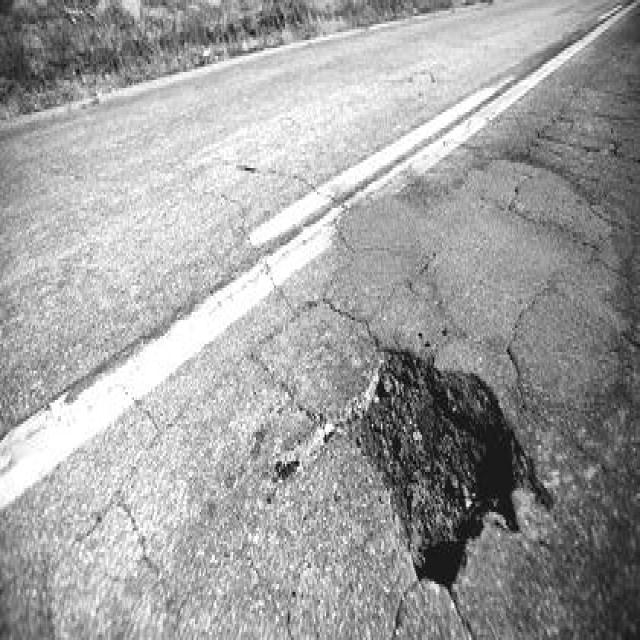pothole: (340, 340, 548, 604)
